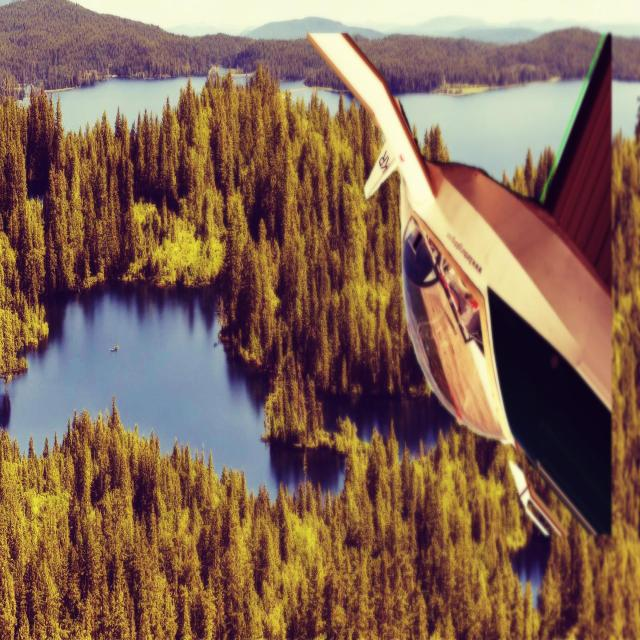airplane: (306, 29, 614, 540)
